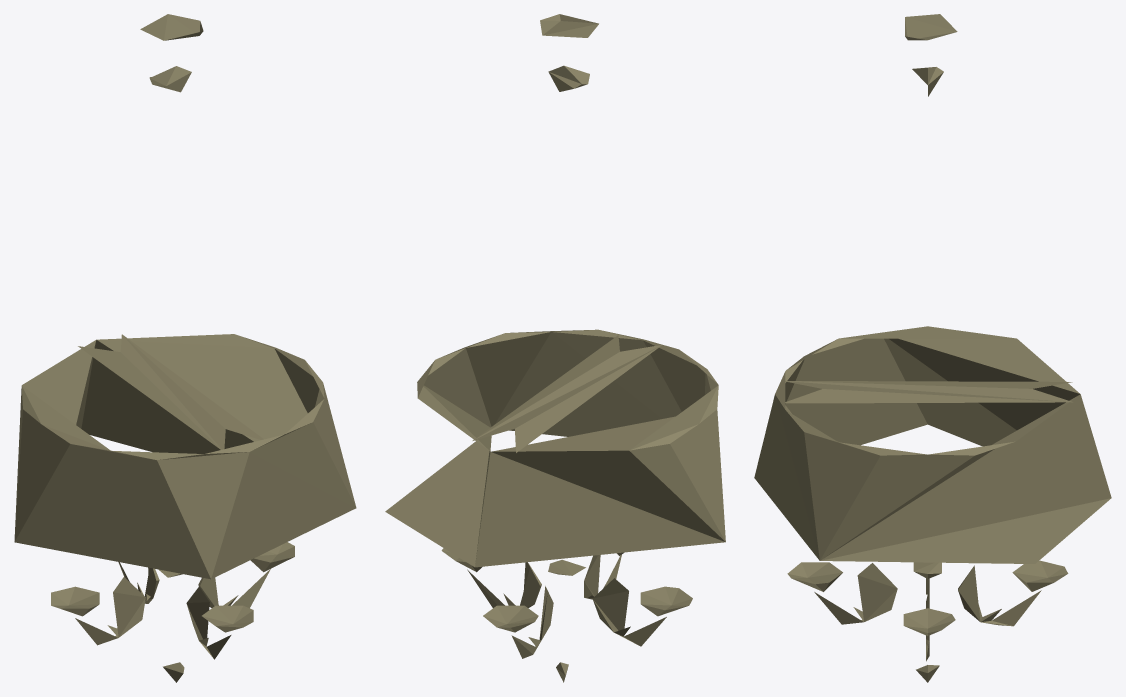
The model's file is chandelier.lod1.glb.
The picture shows the model from 3 angles, left to right: view 1: azimuth 30°, elevation 25°; view 2: azimuth 150°, elevation 25°; view 3: azimuth 270°, elevation 25°; orthographic projection.
Visible parts, largest first — view 1: Object_2; view 2: Object_2; view 3: Object_2.
Part boxes in pixels (left/top/right/bottom): Object_2: left=14, top=14, right=356, bottom=682; Object_2: left=385, top=14, right=725, bottom=682; Object_2: left=754, top=14, right=1111, bottom=682.
Size of the model in its own units: 0.9034 by 1.95 by 0.9661.
